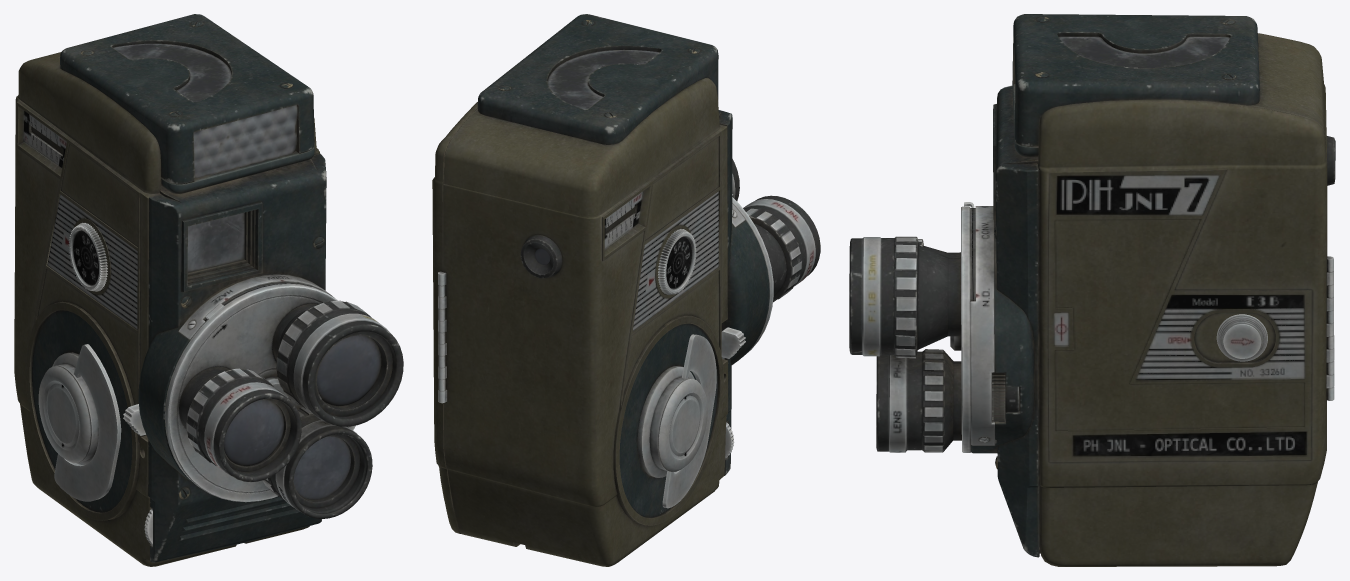
The model's file is vintage_video_camera.glb.
3 renders of one model, left to right at view 1: azimuth 30°, elevation 25°; view 2: azimuth 150°, elevation 25°; view 3: azimuth 270°, elevation 25°, orthographic. The views are drawn at different scales.
Parts seen in each view (by area): view 1: vintage_video_camera; view 2: vintage_video_camera; view 3: vintage_video_camera.
Boxes of the visible parts, x1=… form: vintage_video_camera: x1=14, y1=14, x2=403, y2=566; vintage_video_camera: x1=432, y1=14, x2=820, y2=566; vintage_video_camera: x1=849, y1=14, x2=1335, y2=566.
Size of the model in its own units: 0.0712 by 0.145 by 0.1326.
2 materials, 2 textured.
